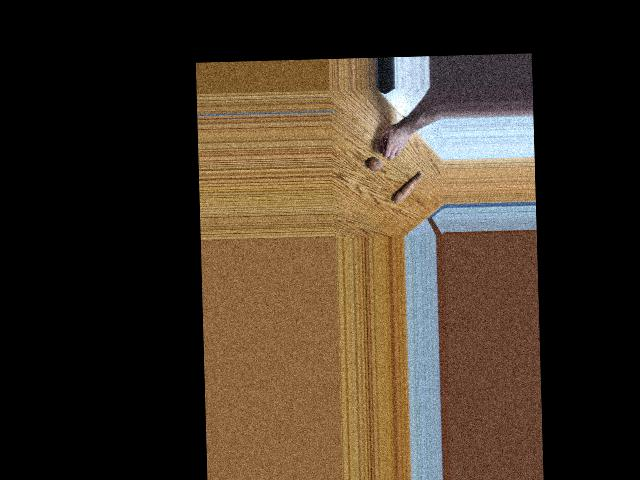onion: (378, 139, 393, 153)
